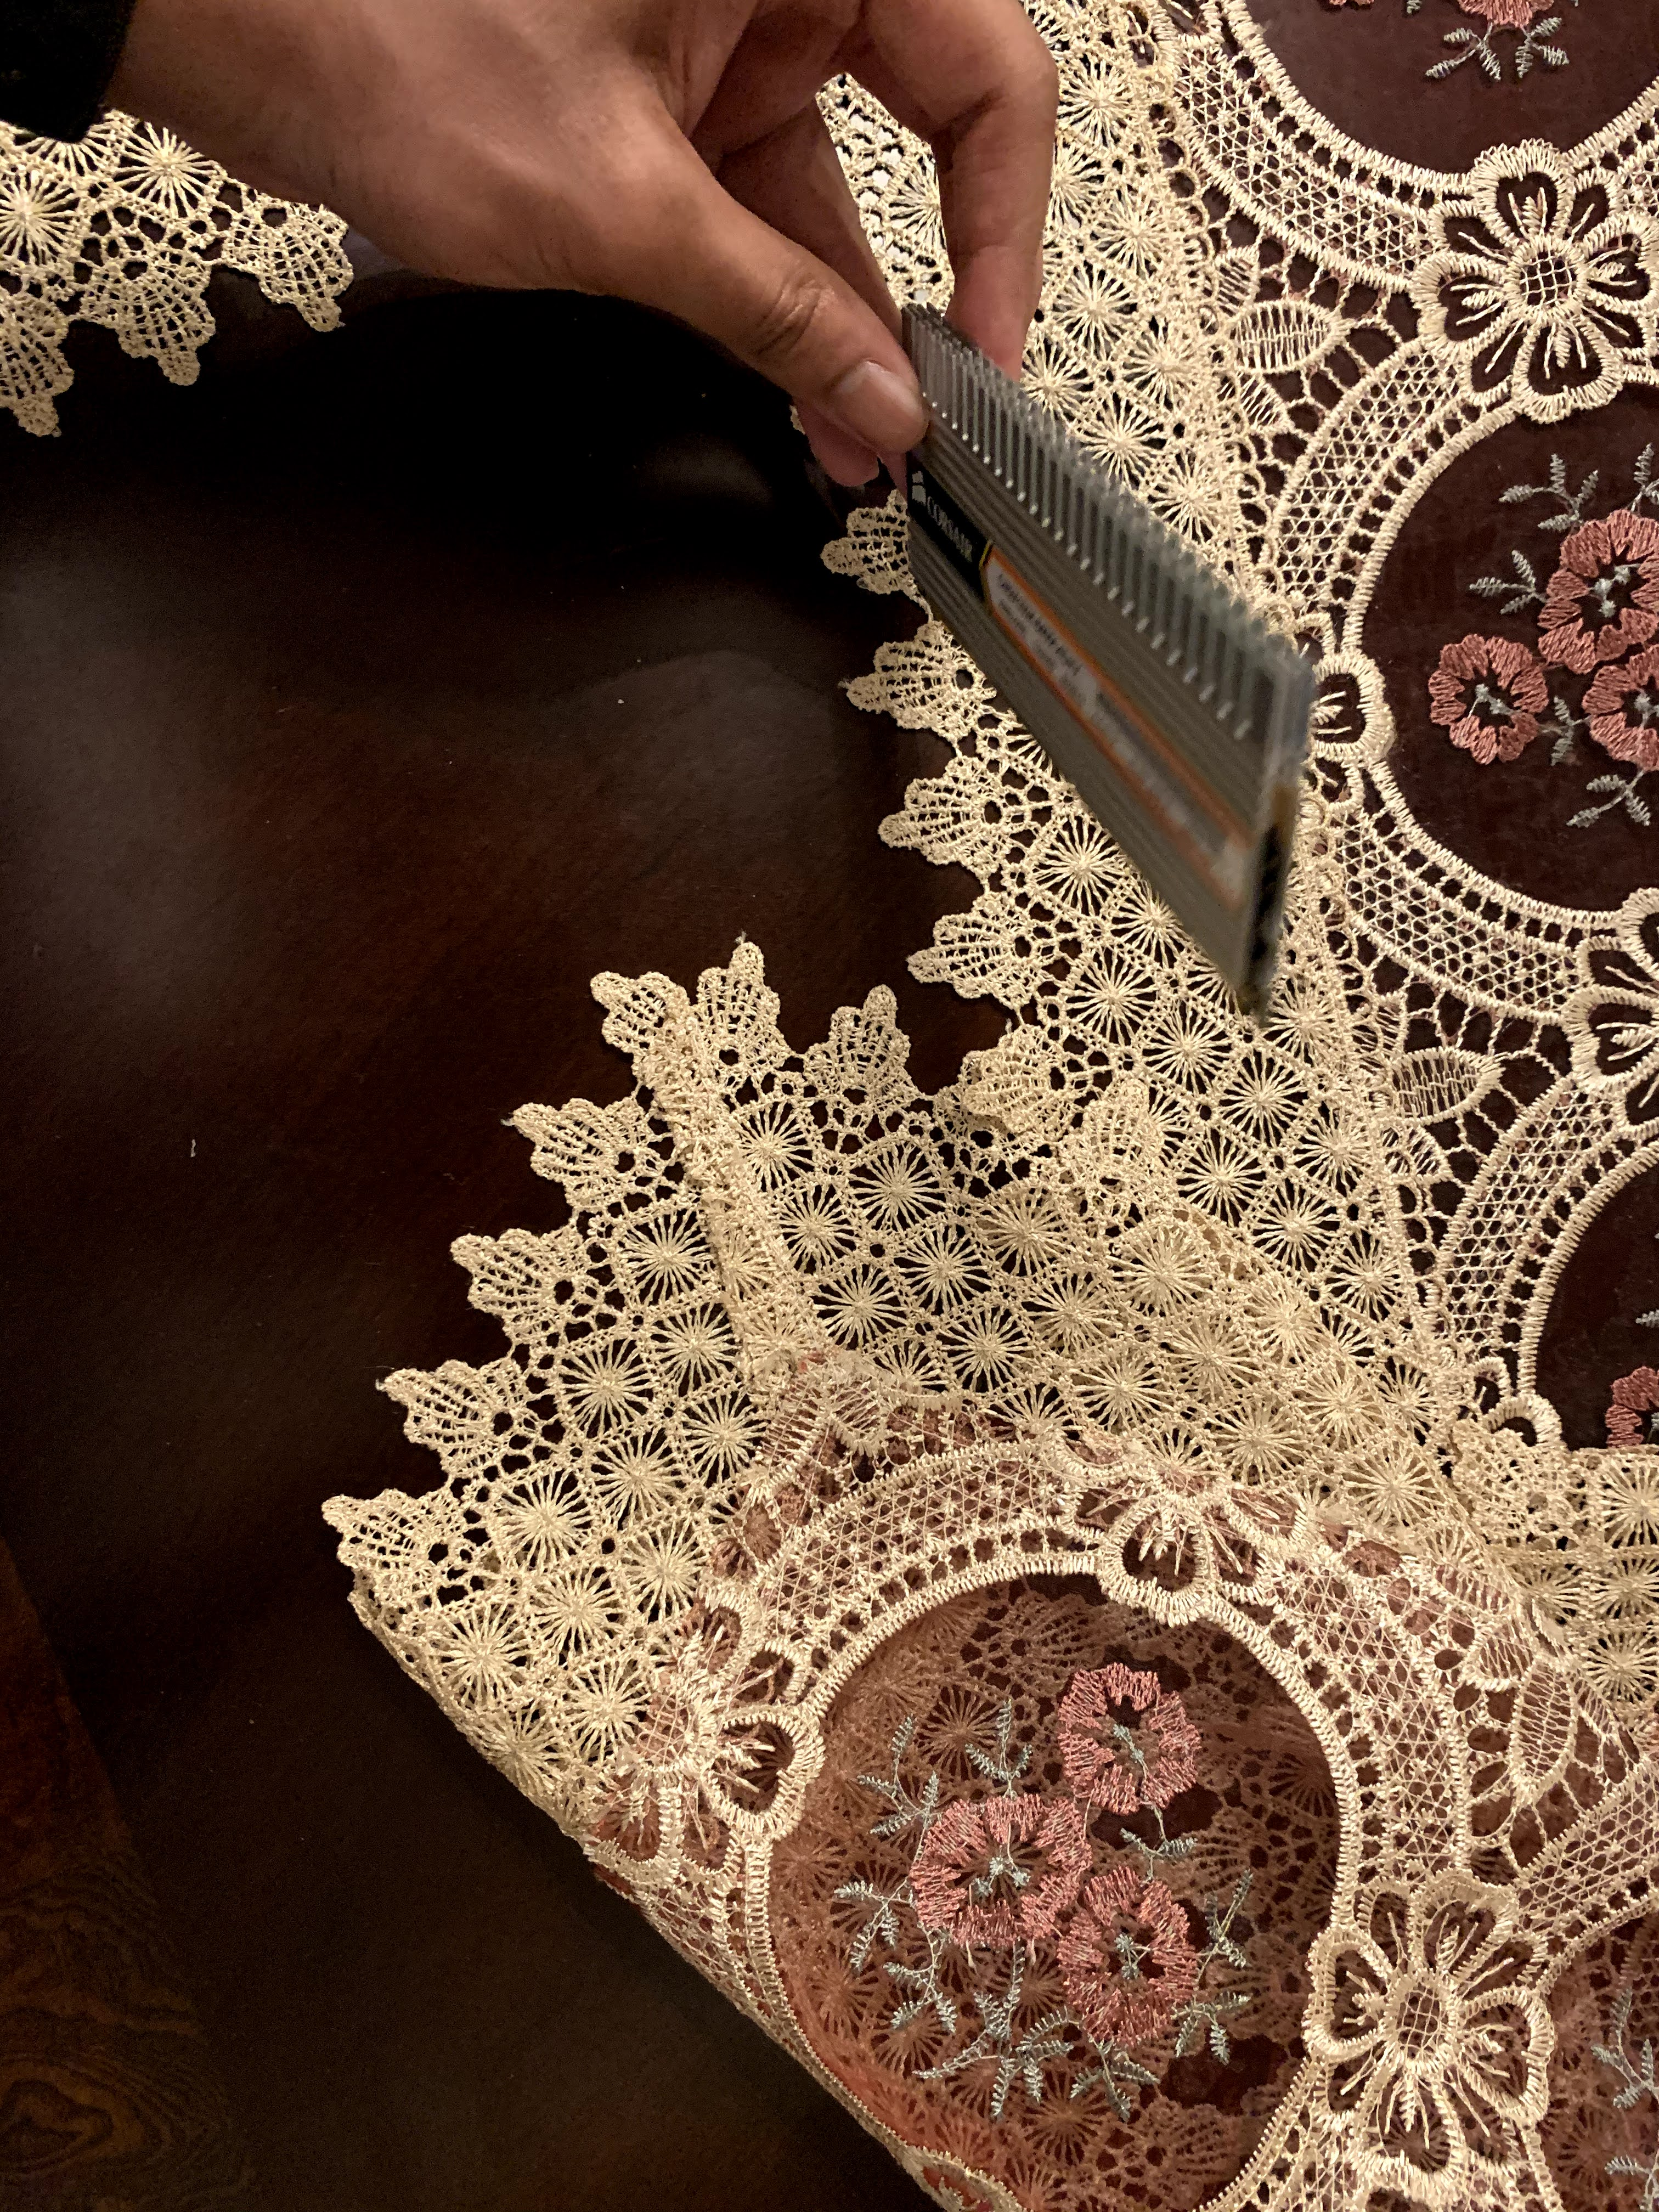Space-debris-medium: (861, 287, 1314, 1005)
